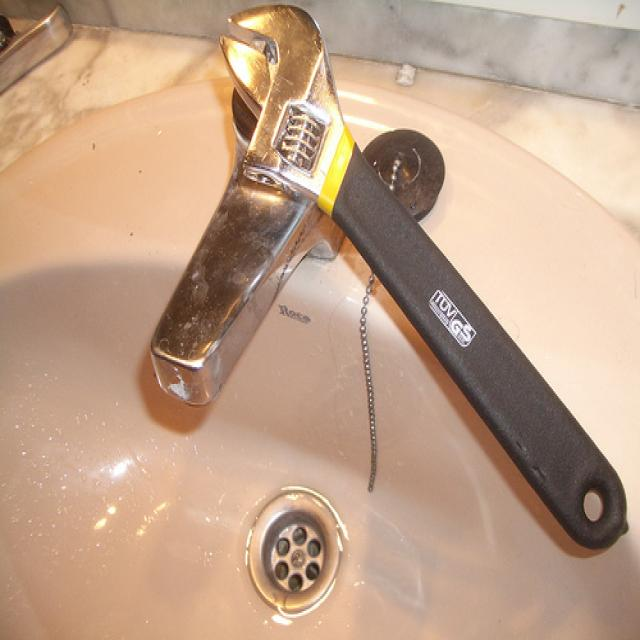wrench: (201, 0, 635, 544)
